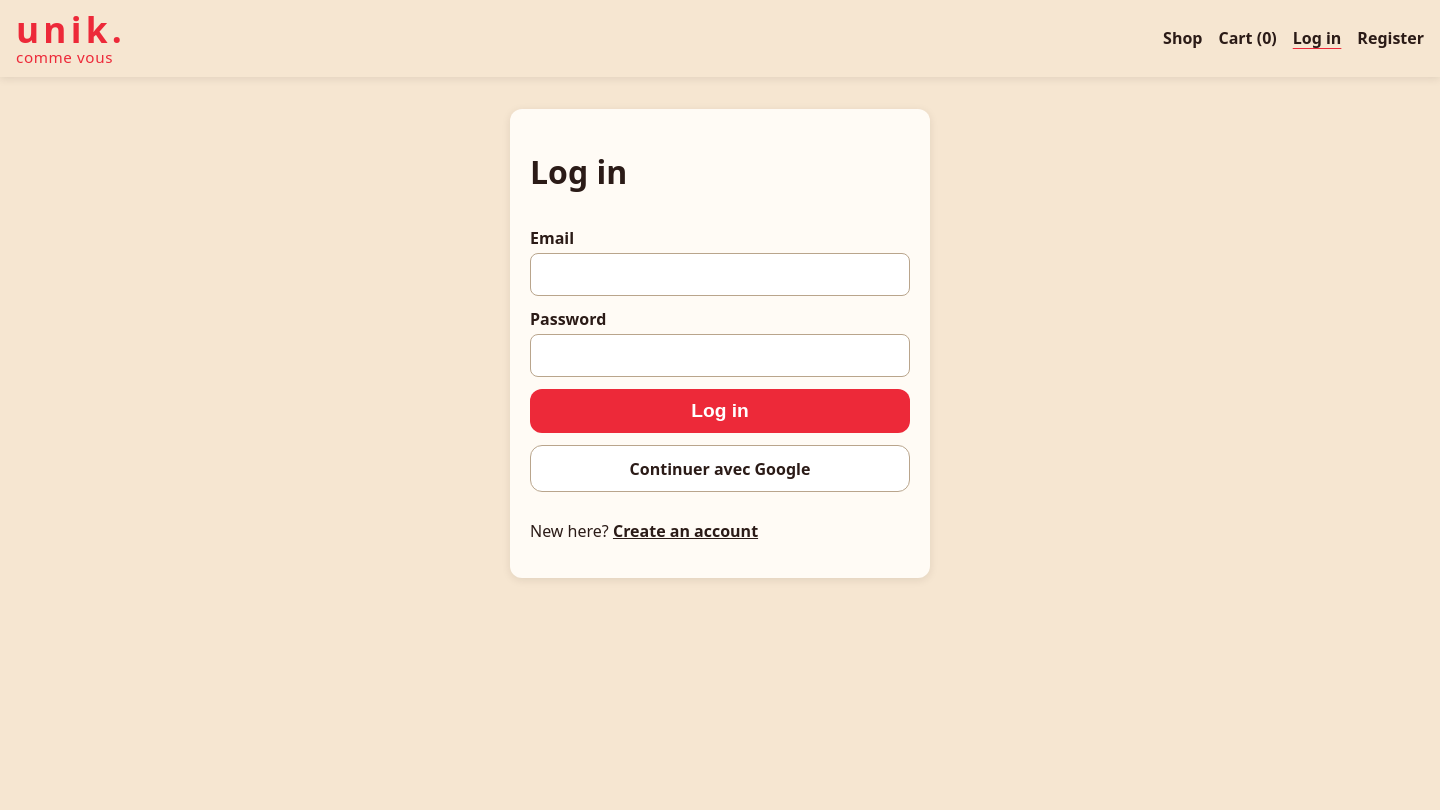
shows the server error on a failed login
Type "a@b.co" into the field labelled "Email" at [720, 274], box [530,253,910,296]
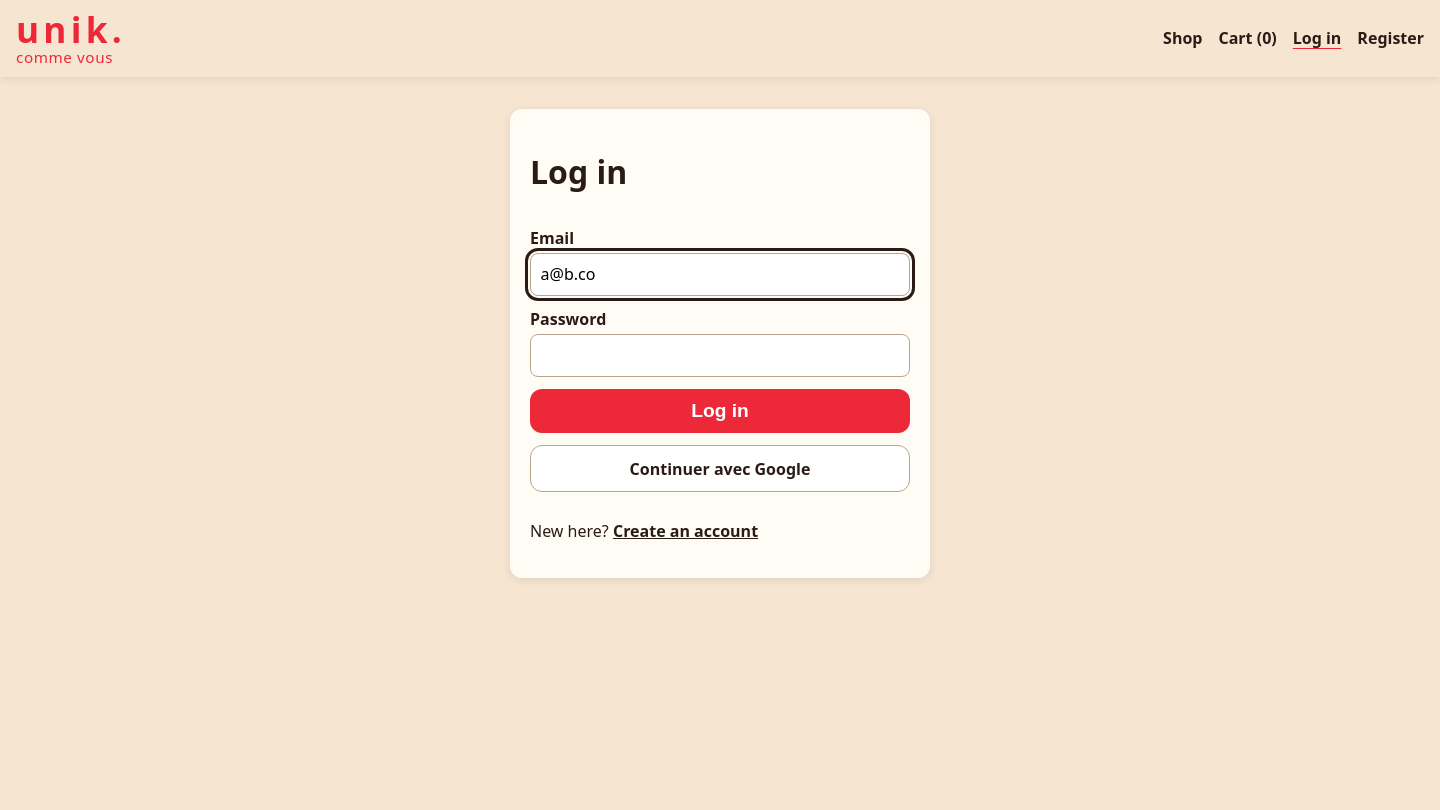
Type "secret" into the password field labelled "Password" at [720, 356], box [530,334,910,377]
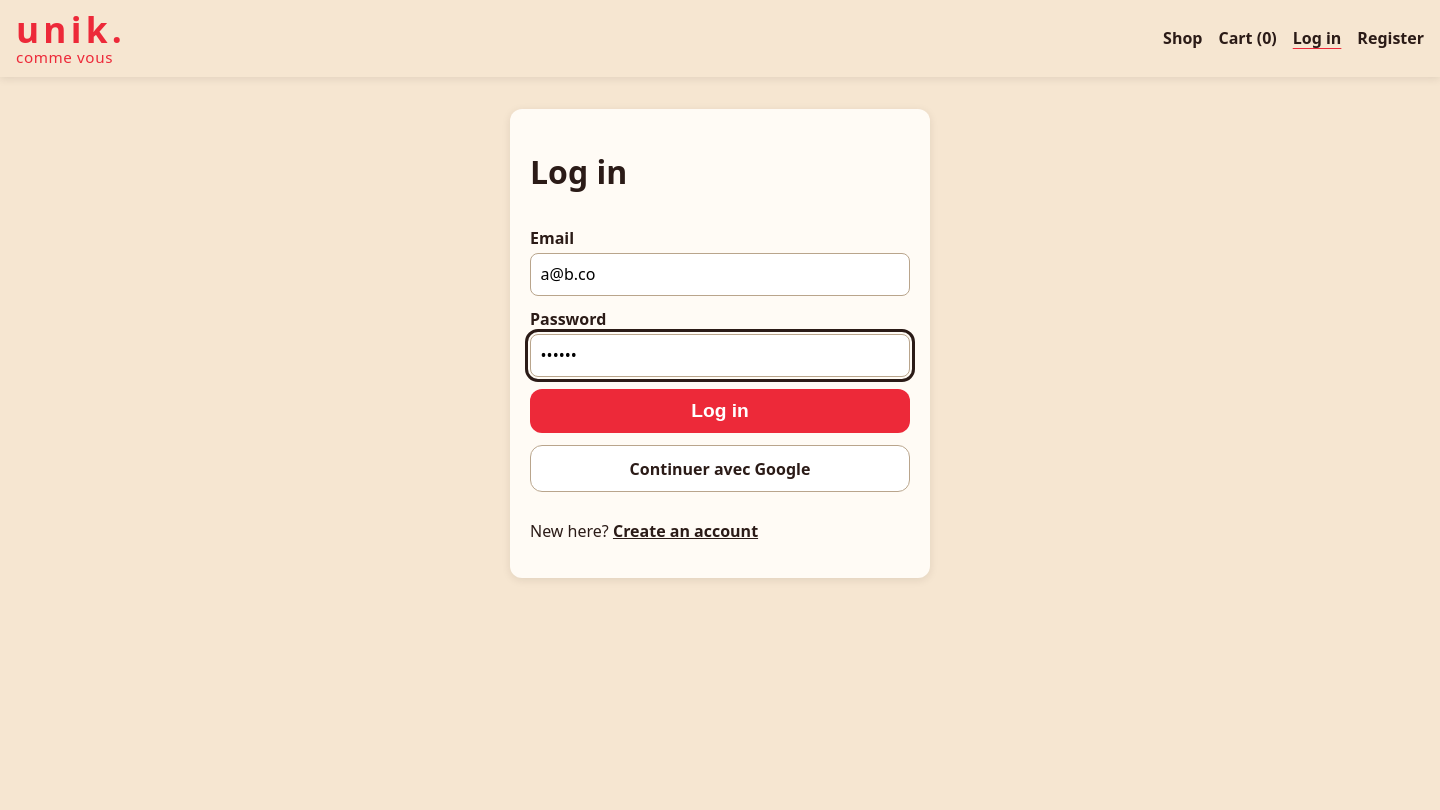
Click the button "Log in" at [720, 411], box [530,389,910,433]
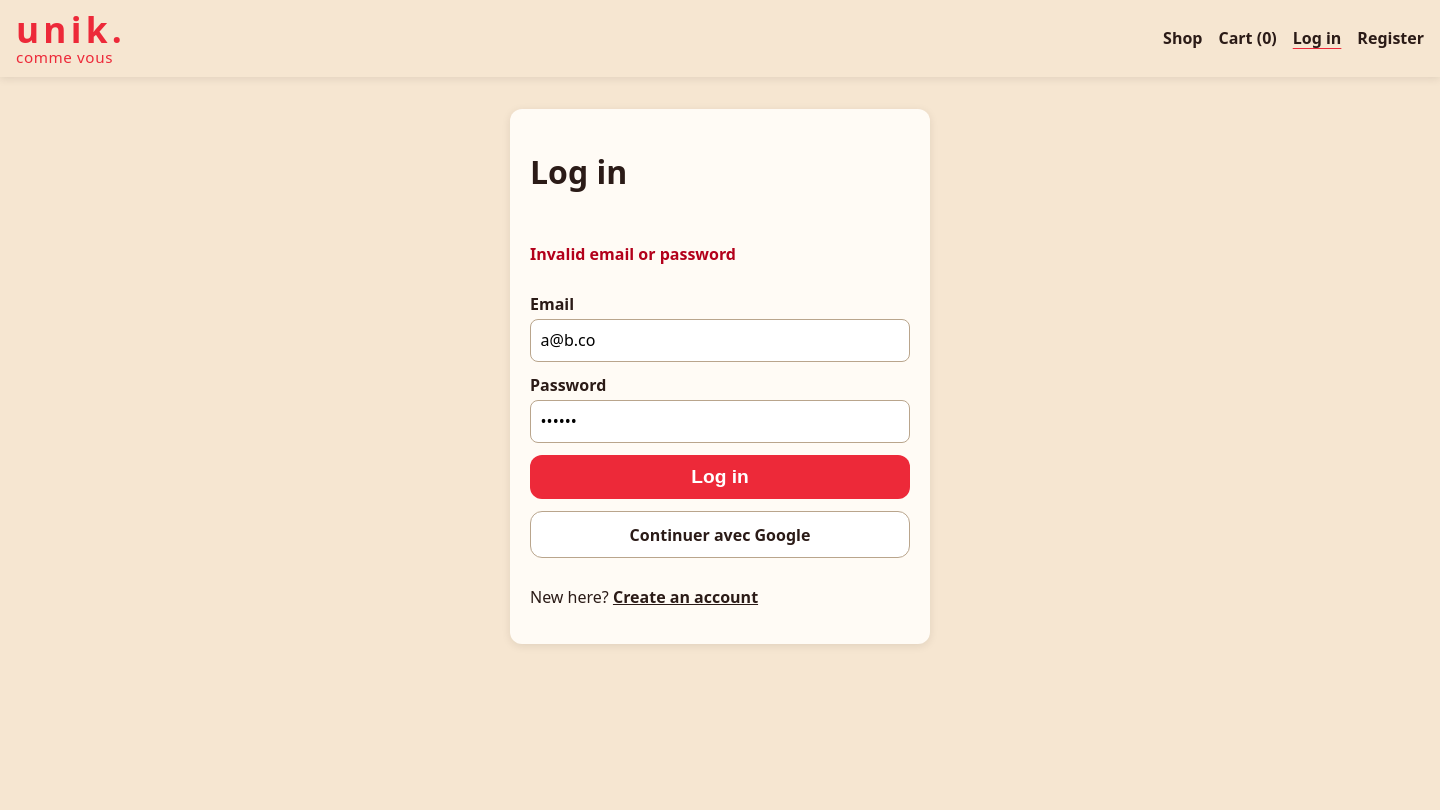
Check: the message reads "Invalid email or password", box [530,243,736,265]
